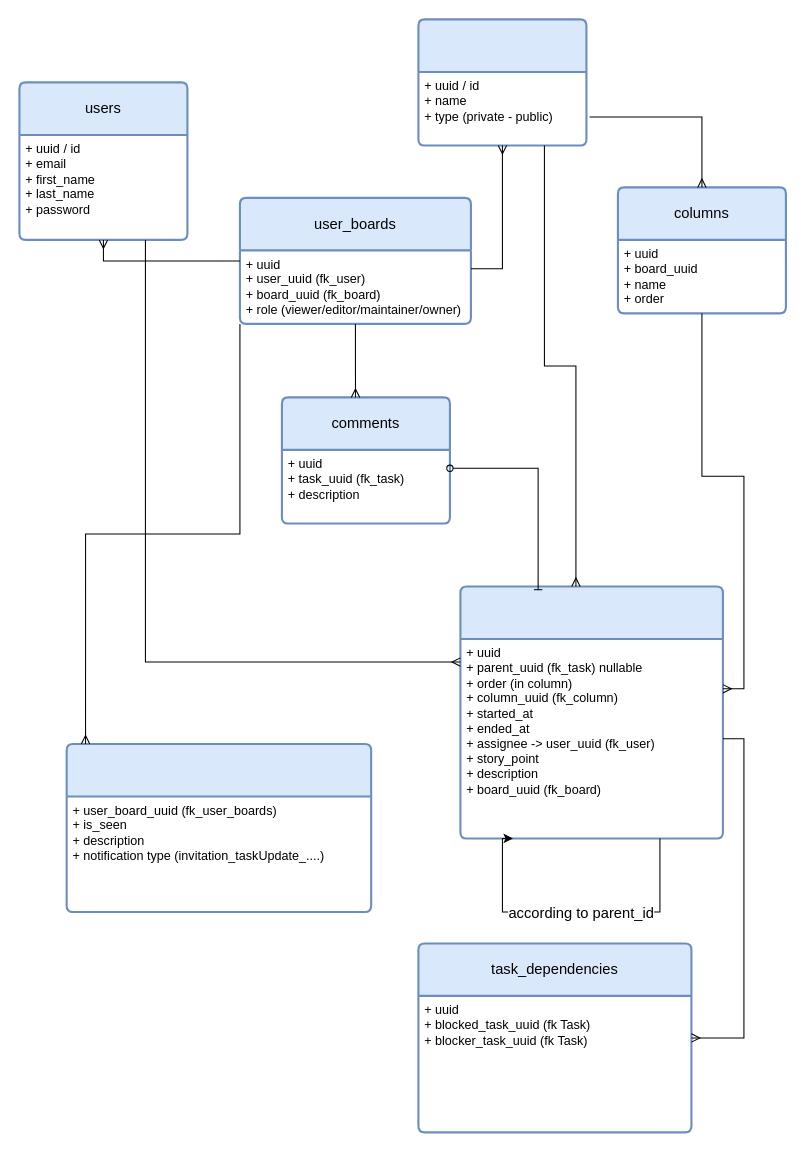
Image size: 804x1151. Some labels were removed from this diagram. The box of each missing label's shape, as (x1, y1, x2, y2) in pixels:
boards: (417, 18, 587, 146)
notifications: (65, 742, 372, 912)
tasks: (459, 585, 723, 839)
